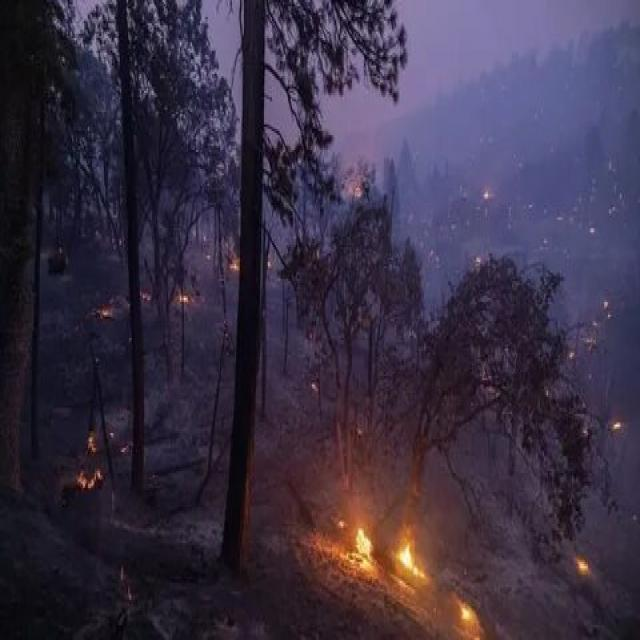Fire: (307, 465, 507, 640), (60, 407, 124, 507)
